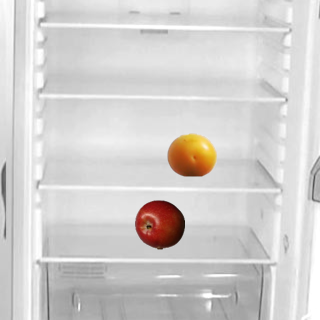Apple Braeburn: (134, 199, 184, 249)
Cherry Wax Yellow: (166, 129, 216, 179)
